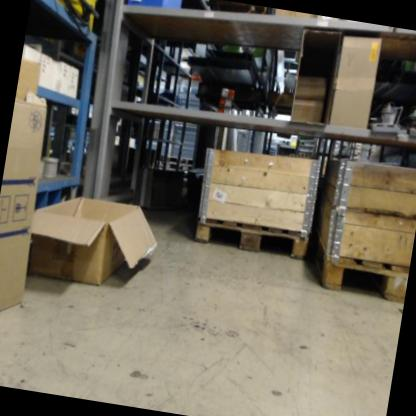pallet: (304, 227, 413, 305), (191, 211, 311, 261)
small_load_carrier: (125, 0, 184, 11)
